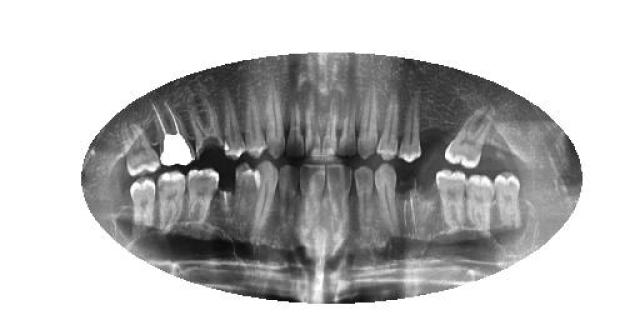Cavity: (186, 94, 228, 162), (395, 172, 419, 234), (219, 188, 236, 226)
Implant: (153, 102, 195, 166)
